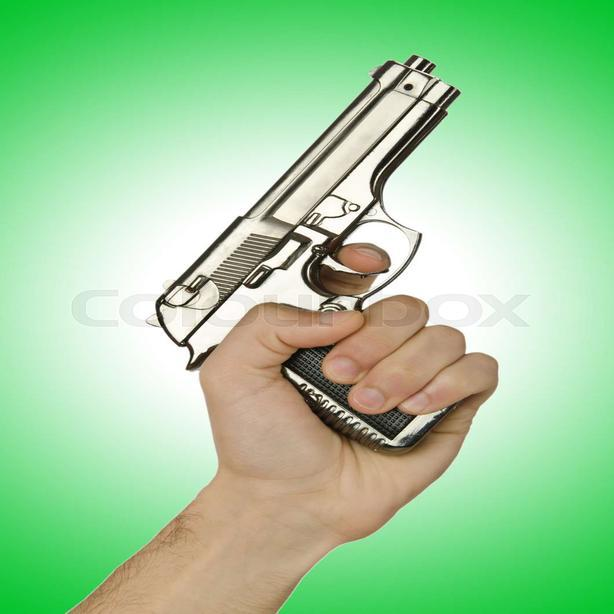Firearm: (157, 46, 544, 514)
